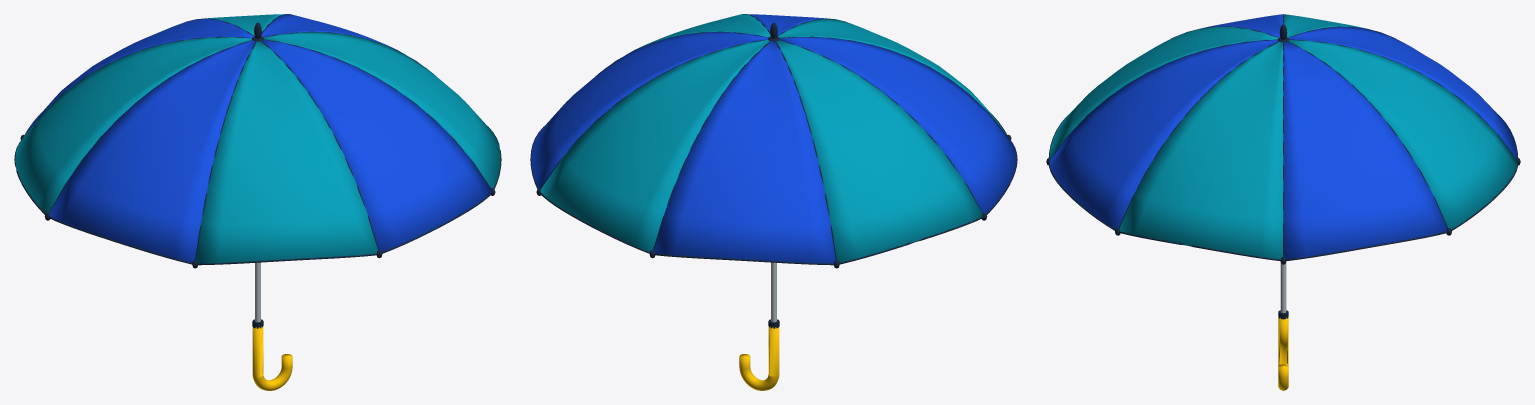
Rendered from 01_Open_Umbrella.glb.
3 renders of one model, left to right at view 1: azimuth 30°, elevation 25°; view 2: azimuth 150°, elevation 25°; view 3: azimuth 270°, elevation 25°, orthographic. The views are drawn at different scales.
Parts seen in each view (by area): view 1: 01_Open_Umbrella_EXPORT; view 2: 01_Open_Umbrella_EXPORT; view 3: 01_Open_Umbrella_EXPORT.
Boxes of the visible parts, box(x1,y1,x2,y2) form: 01_Open_Umbrella_EXPORT: box(14, 14, 501, 390); 01_Open_Umbrella_EXPORT: box(530, 14, 1017, 390); 01_Open_Umbrella_EXPORT: box(1046, 14, 1520, 390).
Bounding box in the file's own units: 2.28 × 1.9 × 2.28.
